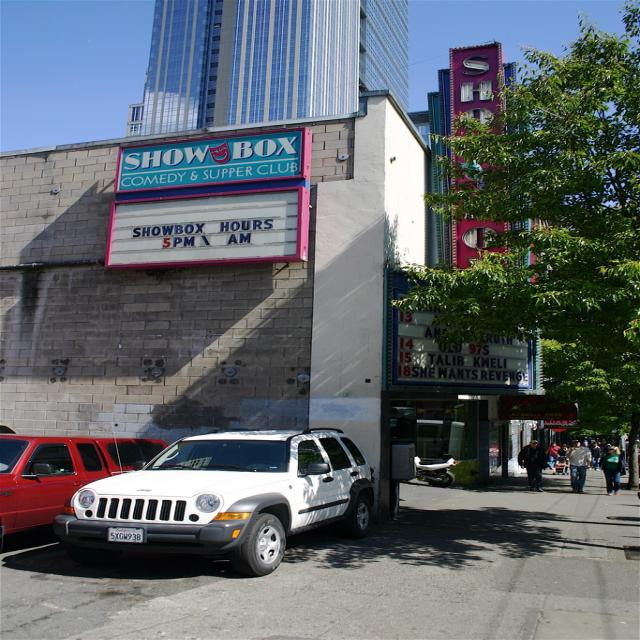car: (51, 421, 375, 576)
